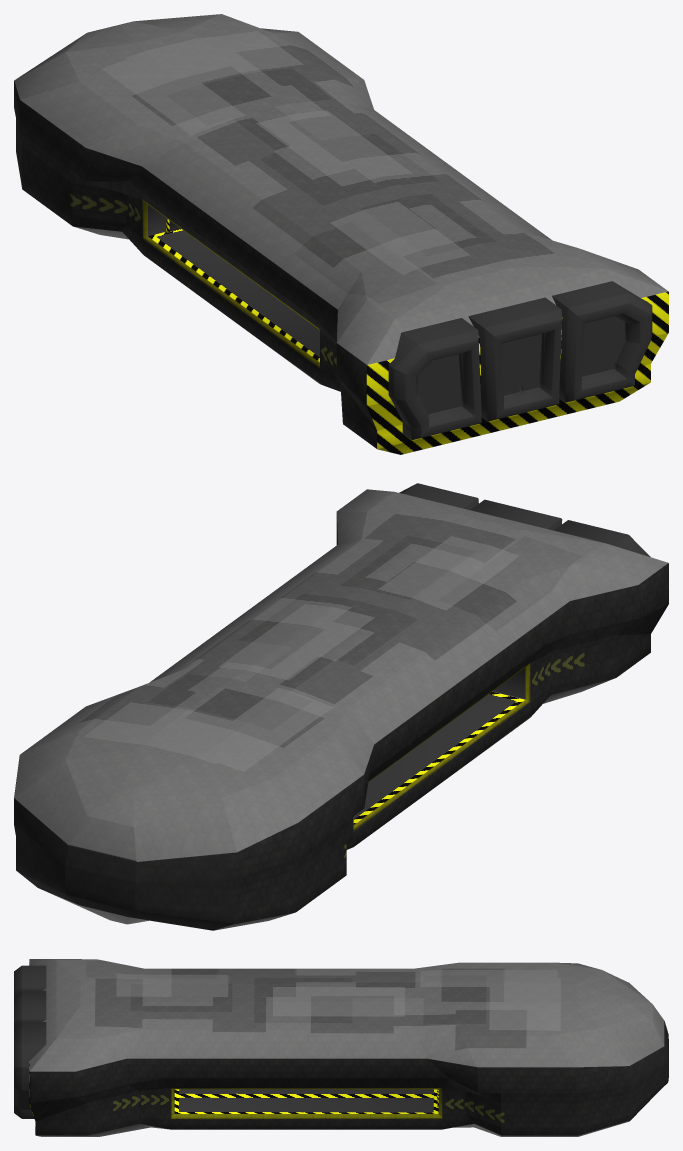
Rendered from carrier.fbx.
3 renders of one model, top to bottom at view 1: azimuth 30°, elevation 25°; view 2: azimuth 150°, elevation 25°; view 3: azimuth 270°, elevation 25°, orthographic. The views are drawn at different scales.
Parts seen in each view (by area): view 1: Carrier, Thruster; view 2: Carrier, Thruster; view 3: Carrier, Thruster.
Boxes of the visible parts, <box> form: Carrier: <box>14,14,668,454</box>; Thruster: <box>388,281,652,439</box>; Carrier: <box>14,489,668,930</box>; Thruster: <box>399,483,650,557</box>; Carrier: <box>29,959,668,1136</box>; Thruster: <box>14,965,46,1118</box>.
Size of the model in its own units: 1037 by 470 by 2546.
